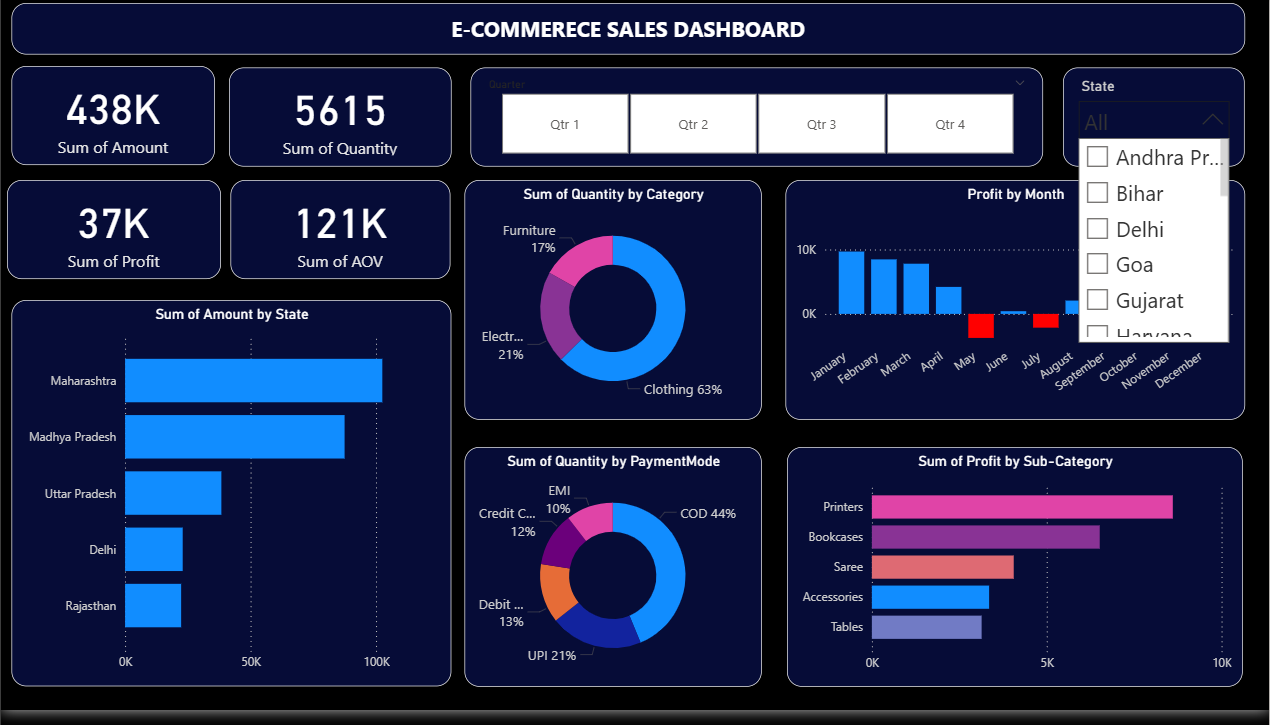

The page's visual inventory and layout, read from the dashboard file:
{"tool":"powerbi","page":{"name":"Page 1","canvas":[1280,720],"ordinal":0},"visuals":[{"type":"columnChart","title":"Profit by Month","fields":{"Y":["Sum(Details.Profit)"],"Category":["Orders.Order Date.Variation.Date Hierarchy.Month"]},"box":[792,184,464,242],"z":0},{"type":"clusteredBarChart","fields":{"Category":["Details.Sub-Category"],"Y":["Sum(Details.Profit)"]},"box":[794,454,460,242],"z":1000},{"type":"donutChart","fields":{"Category":["Details.Category"],"Y":["Sum(Details.Quantity)"]},"box":[468,184,300,242],"z":2000},{"type":"donutChart","fields":{"Y":["Sum(Details.Quantity)"],"Category":["Details.PaymentMode"]},"box":[468,454,300,242],"z":3000},{"type":"card","fields":{"Values":["Sum(Details.Amount)"]},"box":[10,70,205.6,100],"z":4000},{"type":"card","fields":{"Values":["Sum(Details.Quantity)"]},"box":[230,71.1,224.4,100],"z":5000},{"type":"card","fields":{"Values":["Sum(Details.AOV)"]},"box":[232,184,222,100],"z":6000},{"type":"card","fields":{"Values":["Sum(Details.Profit)"]},"box":[6,184,216,100],"z":7000},{"type":"clusteredBarChart","fields":{"Y":["Sum(Details.Amount)"],"Category":["Orders.State"]},"box":[10,306,444,390],"z":8000},{"type":"textbox","box":[10,6.7,1245.6,52.2],"z":9000},{"type":"slicer","fields":{"Values":["Orders.Order Date.Variation.Date Hierarchy.Quarter"]},"box":[474.4,71.1,577.8,100],"z":10000},{"type":"slicer","fields":{"Values":["Orders.State"]},"box":[1072.2,71.1,183.3,100],"z":11000}]}

Visuals, with their boxes in screenshot pixels (x1, y1, x2, y2), scaled from the page's 1280x720 canvas onto the 1270x725 screenshot:
"Profit by Month" columnChart: (left=786, top=185, right=1246, bottom=429)
clusteredBarChart - Details.Sub-Category x Sum(Details.Profit): (left=788, top=457, right=1244, bottom=701)
donutChart - Details.Category x Sum(Details.Quantity): (left=464, top=185, right=762, bottom=429)
donutChart - Sum(Details.Quantity) x Details.PaymentMode: (left=464, top=457, right=762, bottom=701)
card - Sum(Details.Amount): (left=10, top=70, right=214, bottom=171)
card - Sum(Details.Quantity): (left=228, top=72, right=451, bottom=172)
card - Sum(Details.AOV): (left=230, top=185, right=450, bottom=286)
card - Sum(Details.Profit): (left=6, top=185, right=220, bottom=286)
clusteredBarChart - Sum(Details.Amount) x Orders.State: (left=10, top=308, right=450, bottom=701)
textbox: (left=10, top=7, right=1246, bottom=59)
slicer - Orders.Order Date.Variation.Date Hierarchy.Quarter: (left=471, top=72, right=1044, bottom=172)
slicer - Orders.State: (left=1064, top=72, right=1246, bottom=172)
